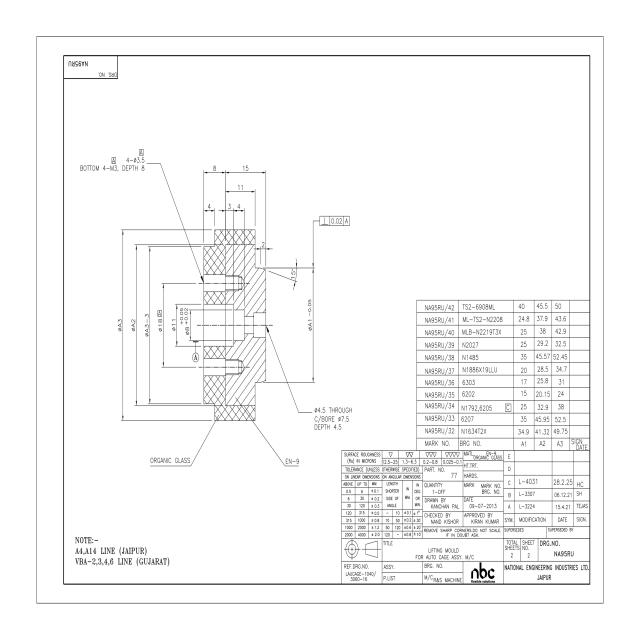dimension: (79, 155, 146, 173), (314, 405, 353, 432), (179, 308, 190, 336), (308, 297, 313, 332), (144, 313, 150, 338), (170, 317, 177, 333), (157, 317, 163, 333), (130, 318, 136, 333), (117, 318, 123, 333), (242, 164, 249, 173), (291, 268, 296, 280), (238, 183, 244, 191), (261, 240, 266, 248), (212, 165, 217, 172), (208, 202, 212, 210), (228, 202, 231, 210), (238, 202, 241, 210)
